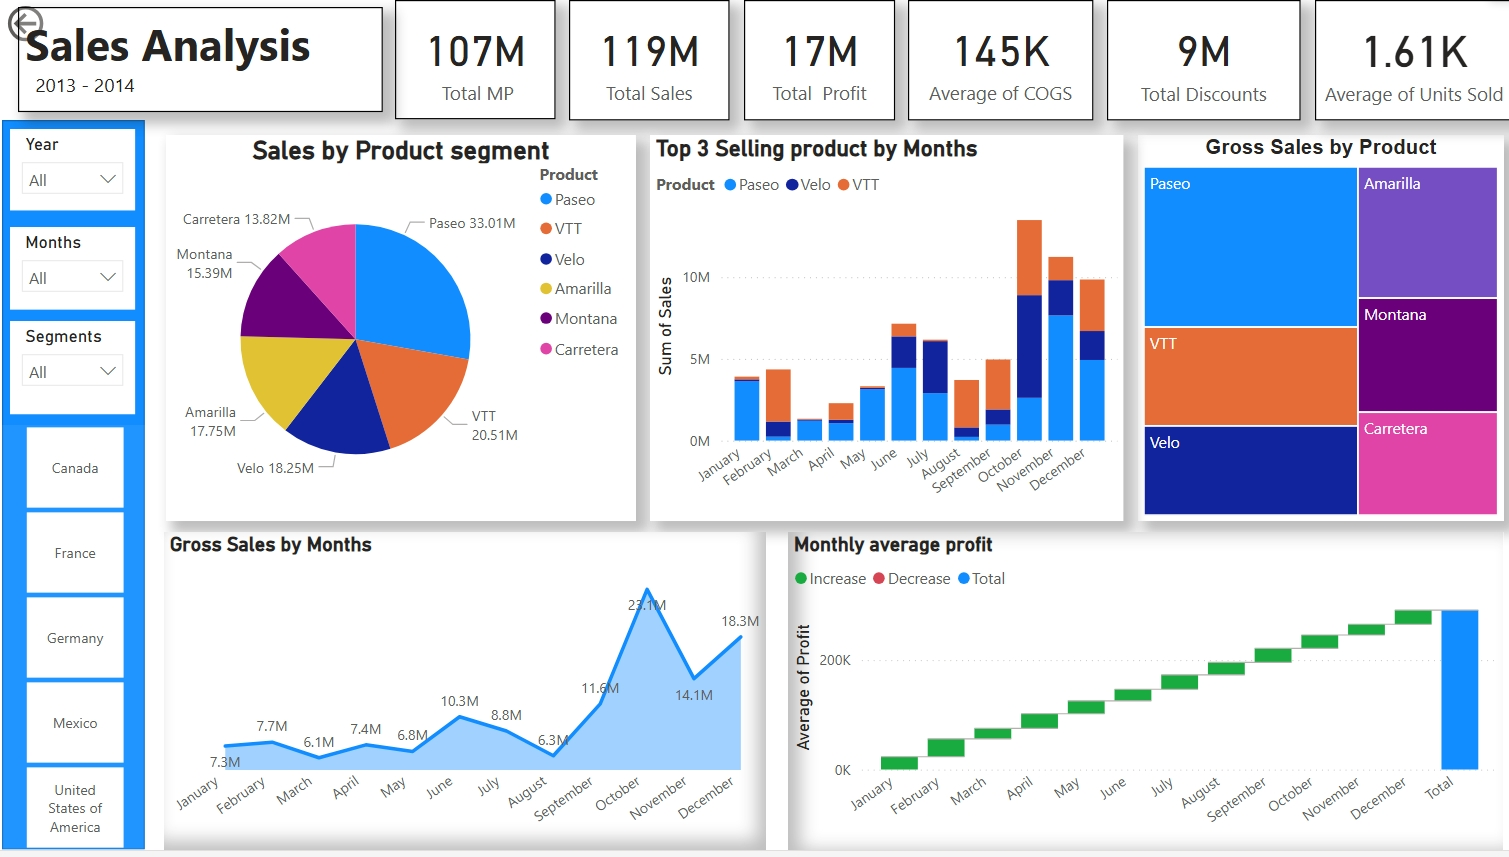

What the dashboard file says about the page in this screenshot:
{"tool":"powerbi","page":{"name":"Page 1","canvas":[1280,720],"ordinal":0},"visuals":[{"type":"card","fields":{"Values":["Sum(financials.Total Manufacturing Price)"]},"box":[332.8,0,136.4,101.1],"z":0},{"type":"card","fields":{"Values":["Sum(financials.Sales)"]},"box":[480.5,0,136.4,101.5],"z":1000},{"type":"actionButton","box":[0,0,100,40],"z":2000},{"type":"card","fields":{"Values":["Sum(financials.Profit)"]},"box":[628.1,0,128.4,101.5],"z":3000},{"type":"card","fields":{"Values":["Avg(financials.COGS)"]},"box":[767.8,0,157.3,101.5],"z":4000},{"type":"shape","box":[0,101.5,121.4,618.1],"z":5000},{"type":"textbox","box":[13.7,5.9,309.2,89.3],"z":6000},{"type":"card","fields":{"Values":["Sum(financials.Discounts)"]},"box":[936.3,0,164.2,101.5],"z":7000},{"type":"pieChart","title":" Sales by Product  segment ","fields":{"Y":["Sum(financials.Sales)"],"Category":["financials.Product"]},"box":[139.3,114.5,405.1,314.5],"z":8000},{"type":"treemap","title":" Gross Sales by Product","fields":{"Group":["financials.Product"],"Values":["Sum(financials.Gross Sales)"]},"box":[962.9,114.8,310.2,335.7],"z":9000},{"type":"card","fields":{"Values":["Avg(financials.Units Sold)"]},"box":[1111.8,0,168.2,101.5],"z":10000},{"type":"slicer","fields":{"Values":["financials.Year"]},"box":[7,109.5,105.5,68.7],"z":11000},{"type":"slicer","fields":{"Values":["financials.Country"]},"box":[0,395.1,121.4,324.5],"z":12000},{"type":"textbox","box":[20.9,352.4,86.6,33.8],"z":13000},{"type":"lineStackedColumnComboChart","title":"Top 3 Selling product by Months","fields":{"Category":["financials.Month Name"],"Y":["Sum(financials.Sales)"],"Series":["financials.Product"]},"box":[554.4,114.5,401.1,314.5],"z":14000},{"type":"slicer","fields":{"Values":["financials.Month Name"]},"box":[7,192.1,105.5,69.7],"z":15000},{"type":"lineChart","title":" Gross Sales by Months","fields":{"Y":["Sum(financials.Gross Sales)"],"Category":["financials.Month Name"]},"box":[137.4,433,527.5,286.7],"z":16000},{"type":"waterfallChart","fields":{"Y":["Avg(financials.Profit)"],"Category":["financials.Month Name"]},"box":[706.8,450.6,565.4,269.9],"z":16001}]}

Visuals, with their boxes in screenshot pixels (x1, y1, x2, y2), scaled from the page's 1280x720 canvas onto the 1509x857 screenshot:
card - Sum(financials.Total Manufacturing Price): box=[392, 0, 553, 120]
card - Sum(financials.Sales): box=[566, 0, 727, 121]
actionButton: box=[0, 0, 118, 48]
card - Sum(financials.Profit): box=[740, 0, 892, 121]
card - Avg(financials.COGS): box=[905, 0, 1091, 121]
shape: box=[0, 121, 143, 856]
textbox: box=[16, 7, 381, 113]
card - Sum(financials.Discounts): box=[1104, 0, 1297, 121]
" Sales by Product  segment " pieChart: box=[164, 136, 642, 511]
" Gross Sales by Product" treemap: box=[1135, 137, 1501, 536]
card - Avg(financials.Units Sold): box=[1311, 0, 1508, 121]
slicer - financials.Year: box=[8, 130, 133, 212]
slicer - financials.Country: box=[0, 470, 143, 856]
textbox: box=[25, 419, 127, 460]
"Top 3 Selling product by Months" lineStackedColumnComboChart: box=[654, 136, 1126, 511]
slicer - financials.Month Name: box=[8, 229, 133, 312]
" Gross Sales by Months" lineChart: box=[162, 515, 784, 856]
waterfallChart - Avg(financials.Profit) x financials.Month Name: box=[833, 536, 1500, 856]
